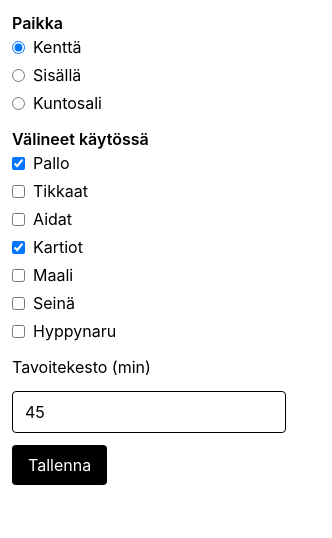
it: SessionSettingsForm › sends the choices, and says they were saved
The image size is (332, 538).
Click the radio button labelled "Sisällä" at (18, 75), box [12, 68, 25, 82]
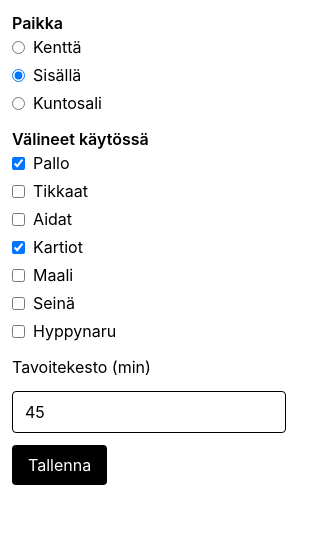
Click the checkbox labelled "Pallo" at (18, 163), box [12, 156, 25, 170]
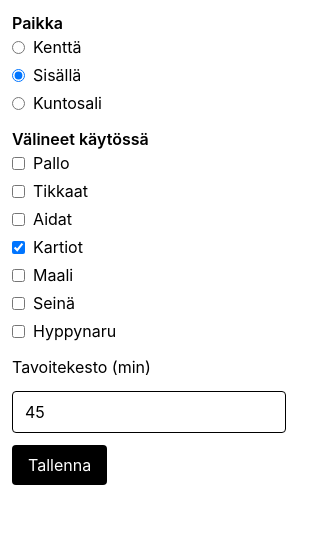
Replace the text in the field labelled "Tavoitekesto (min)" with "30" at (149, 412), box [12, 391, 286, 433]
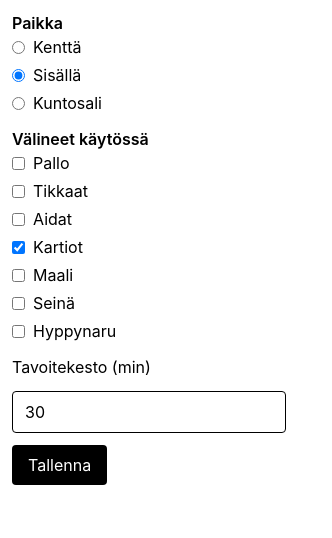
Click the button "Tallenna" at (60, 465), box [12, 445, 107, 485]
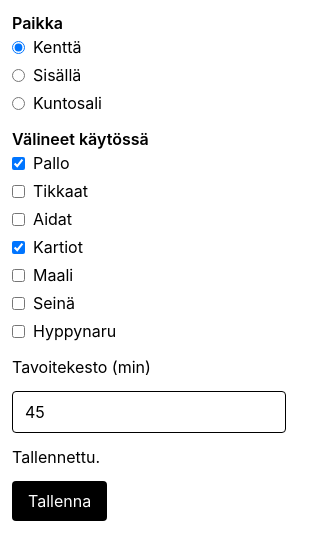
Result: the text "Tallennettu." is shown at [12, 447, 100, 467]
